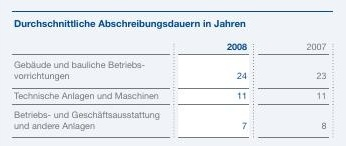table: (0, 0, 346, 146)
